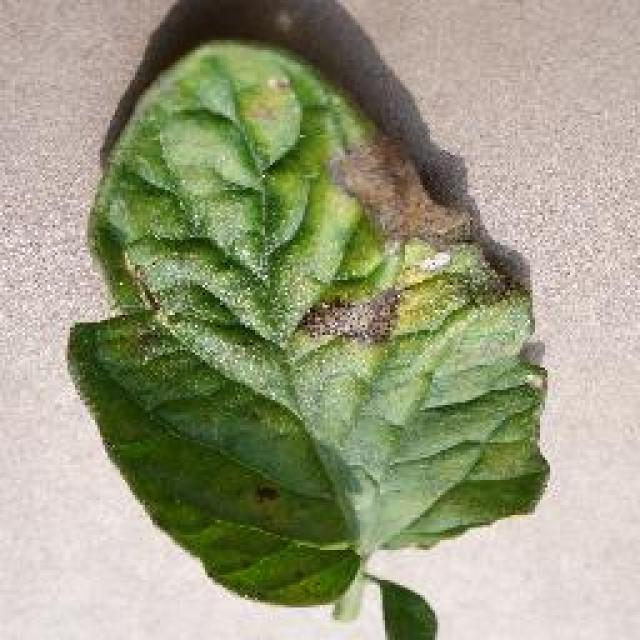Tomato___Late_blight: (70, 40, 552, 638)
